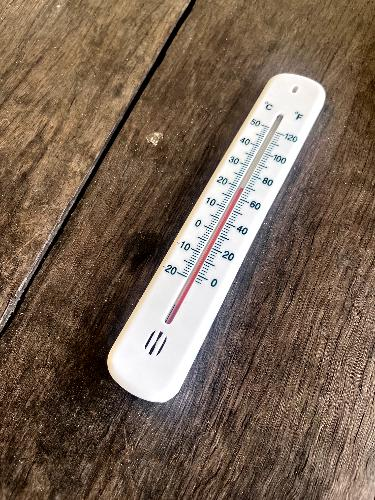thermo: (100, 60, 352, 406)
